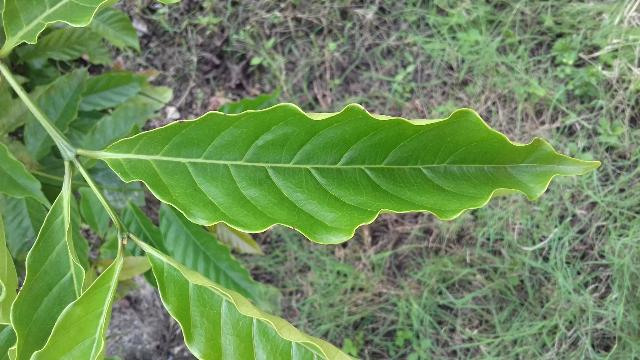healthy: (76, 100, 610, 247)
